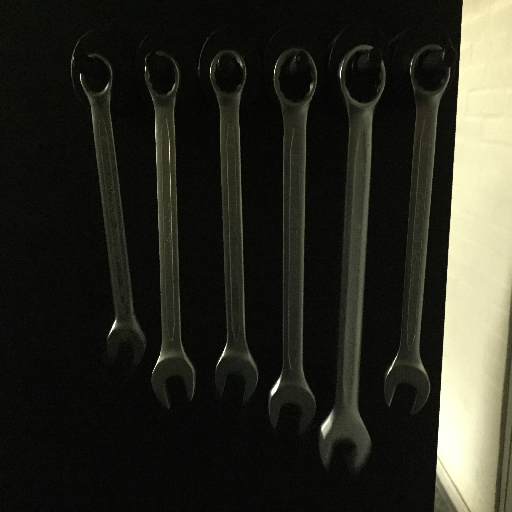bottom: (313, 409, 374, 475), (262, 376, 319, 438), (146, 350, 199, 413), (210, 346, 262, 406), (379, 360, 432, 418), (102, 319, 150, 371)
top: (336, 41, 390, 114), (269, 43, 323, 112), (405, 40, 456, 109), (205, 46, 253, 106), (139, 47, 185, 105), (72, 49, 121, 102)
